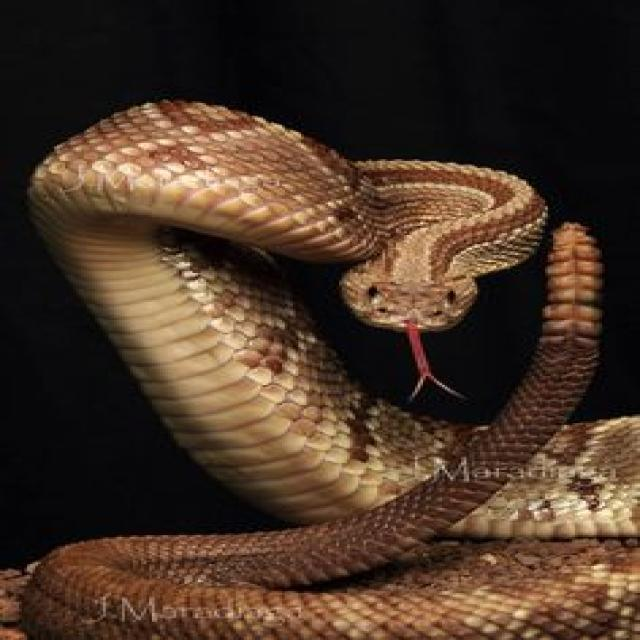Carnivorous: (22, 101, 640, 640)
